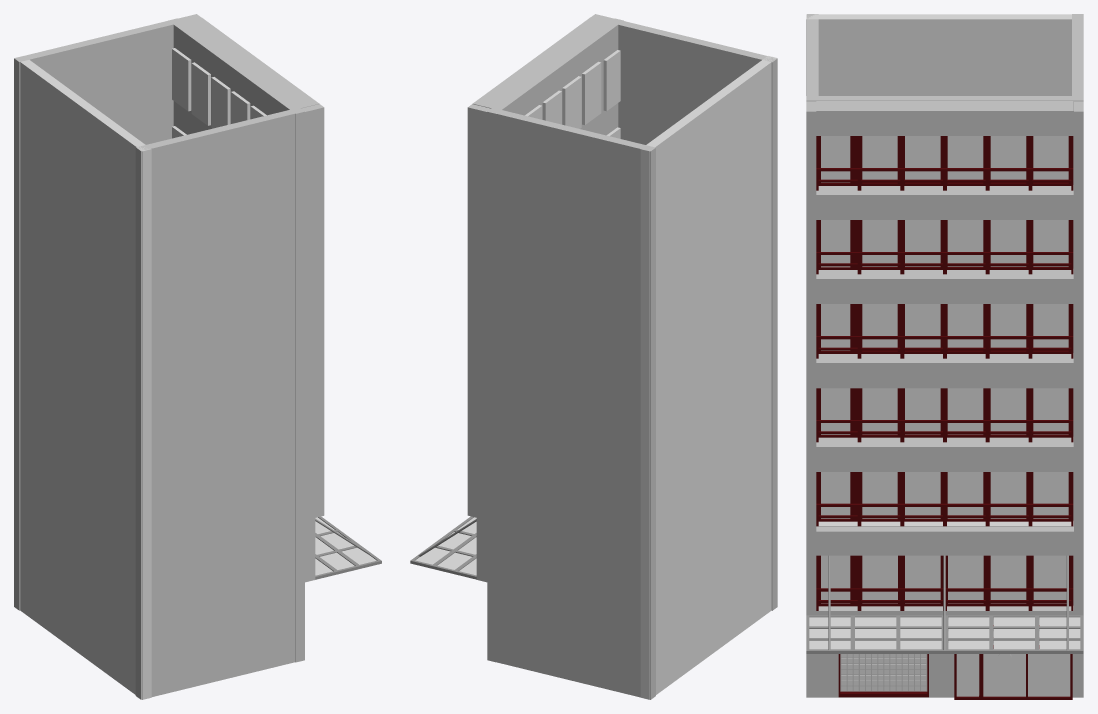
The model's file is Edificio1 1.fbx.
3 views of the same model, side by side, from view 1: azimuth 30°, elevation 25°; view 2: azimuth 150°, elevation 25°; view 3: azimuth 270°, elevation 25° (orthographic). The views are drawn at different scales.
Visible parts, largest first — view 1: Cube.355, Cube.356, Cube.369, Cube.354, Cube.386, Cube.376, Cube.364, Cube.362; view 2: Cube.354, Cube.356, Cube.369, Cube.355, Cube.386, Cube.376, Cube.366, Cube.365, Cube.387; view 3: Cube.369, Cube.356, Cube.376, Cube.373, Cube.372, Cube.374, Cube.375, Cube.367, Cube.377, Cube.380, Cube.383, Cube.386 (+38 smaller).
Boxes of the visible parts, <box> form: Cube.355: <box>135,108,295,699</box>; Cube.356: <box>15,56,151,699</box>; Cube.369: <box>168,14,324,662</box>; Cube.354: <box>14,20,173,610</box>; Cube.386: <box>172,48,266,128</box>; Cube.376: <box>182,17,319,108</box>; Cube.364: <box>315,517,376,575</box>; Cube.362: <box>315,516,381,579</box>; Cube.354: <box>496,110,655,699</box>; Cube.356: <box>640,56,776,699</box>; Cube.369: <box>467,14,623,662</box>; Cube.355: <box>618,21,777,610</box>; Cube.386: <box>525,61,601,128</box>; Cube.376: <box>472,17,609,108</box>; Cube.366: <box>415,517,476,575</box>; Cube.365: <box>410,516,476,579</box>; Cube.387: <box>603,50,620,111</box>; Cube.369: <box>806,96,1083,697</box>; Cube.356: <box>806,14,1071,95</box>; Cube.376: <box>816,101,1073,135</box>; Cube.373: <box>816,353,1073,388</box>; Cube.372: <box>816,437,1073,471</box>; Cube.374: <box>816,269,1073,303</box>; Cube.375: <box>816,185,1073,219</box>; Cube.367: <box>862,555,1066,603</box>; Cube.377: <box>862,472,1068,518</box>; Cube.380: <box>862,388,1068,434</box>; Cube.383: <box>862,304,1068,347</box>; Cube.386: <box>862,136,1068,179</box>.
Size of the model in its own units: 1039 by 2267 by 955.
